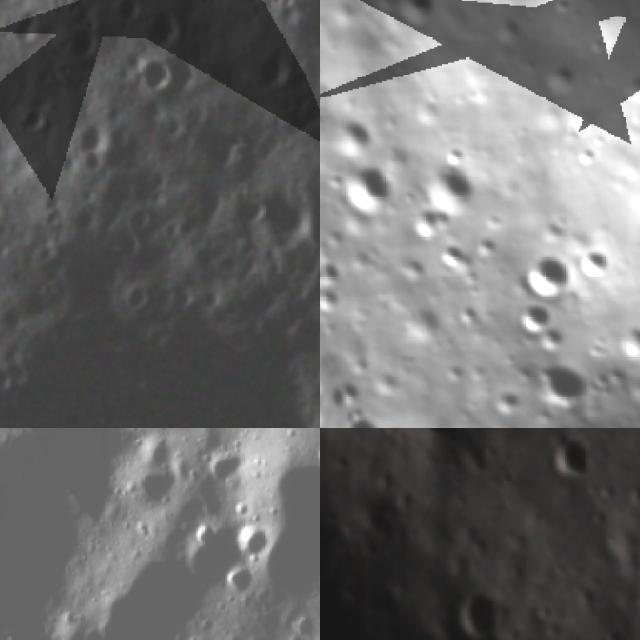crater: (520, 340, 598, 420), (416, 150, 491, 226), (119, 436, 188, 518), (330, 150, 406, 224), (514, 241, 580, 310), (387, 193, 458, 255), (320, 102, 385, 167), (537, 428, 594, 491), (505, 290, 560, 344), (572, 237, 626, 290), (56, 15, 106, 69), (141, 0, 192, 51), (377, 0, 443, 37), (454, 581, 502, 629), (74, 110, 119, 160), (601, 313, 640, 370), (129, 52, 176, 98), (205, 445, 248, 490), (320, 246, 358, 294), (222, 560, 263, 604), (234, 518, 274, 562), (228, 190, 270, 230), (16, 100, 54, 138), (105, 0, 145, 31), (304, 189, 320, 258), (354, 408, 389, 428), (462, 628, 508, 640)
